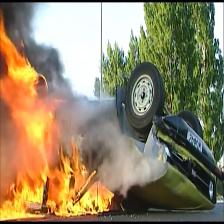fire: (0, 7, 130, 219)
smoke: (9, 0, 87, 95)
